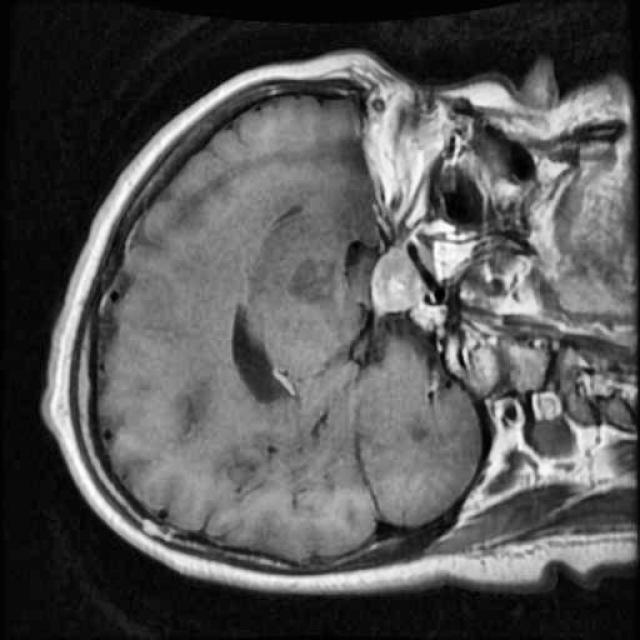Tumor: (360, 224, 458, 345)
